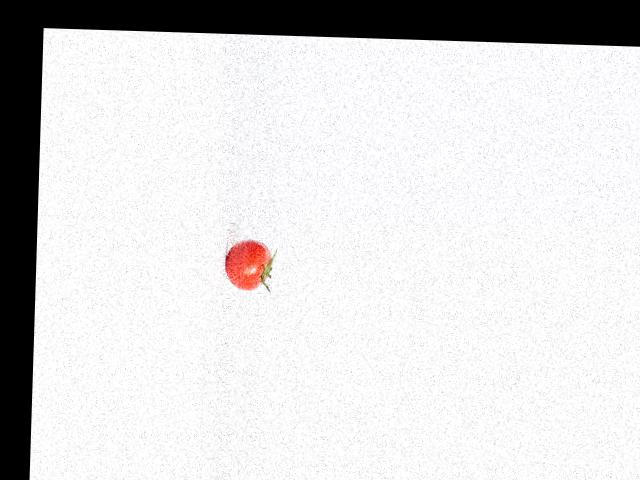tomato: (224, 237, 271, 290)
